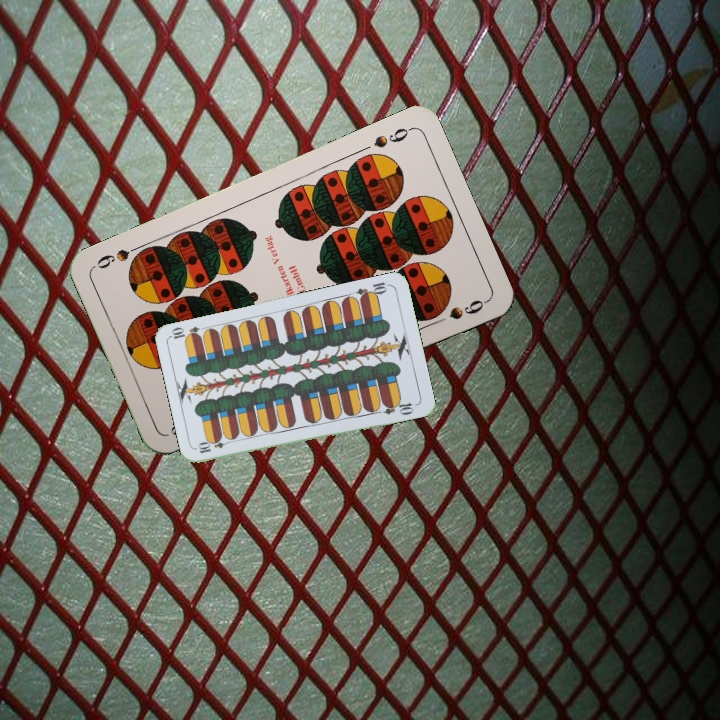E10: (352, 278, 393, 303), (194, 435, 234, 456)
S9: (370, 123, 415, 151)
